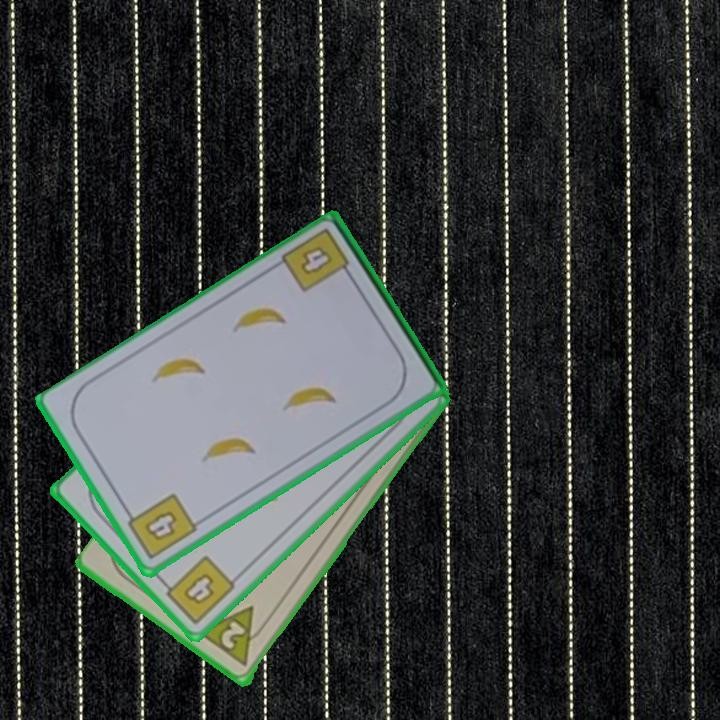2p: (217, 617, 249, 653)
4b: (156, 552, 239, 628), (121, 489, 201, 563), (278, 225, 357, 295)
